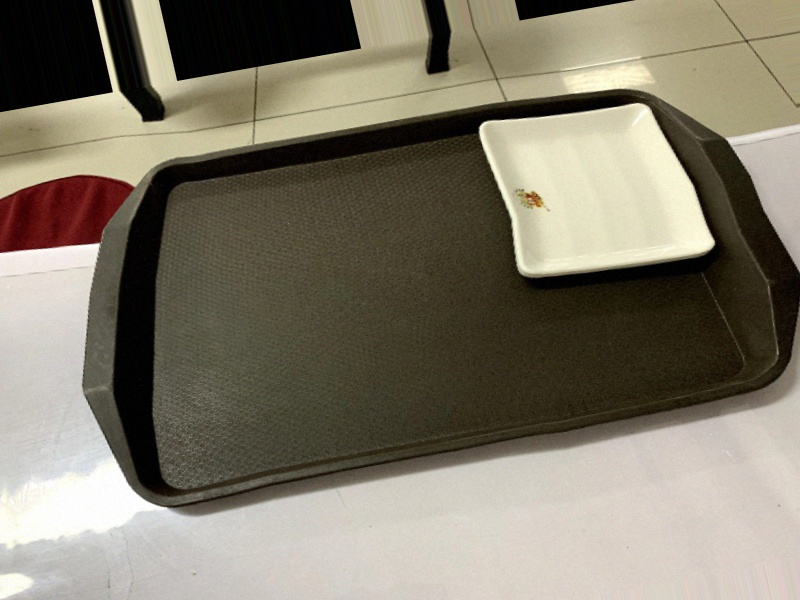dish4: (469, 82, 718, 296)
